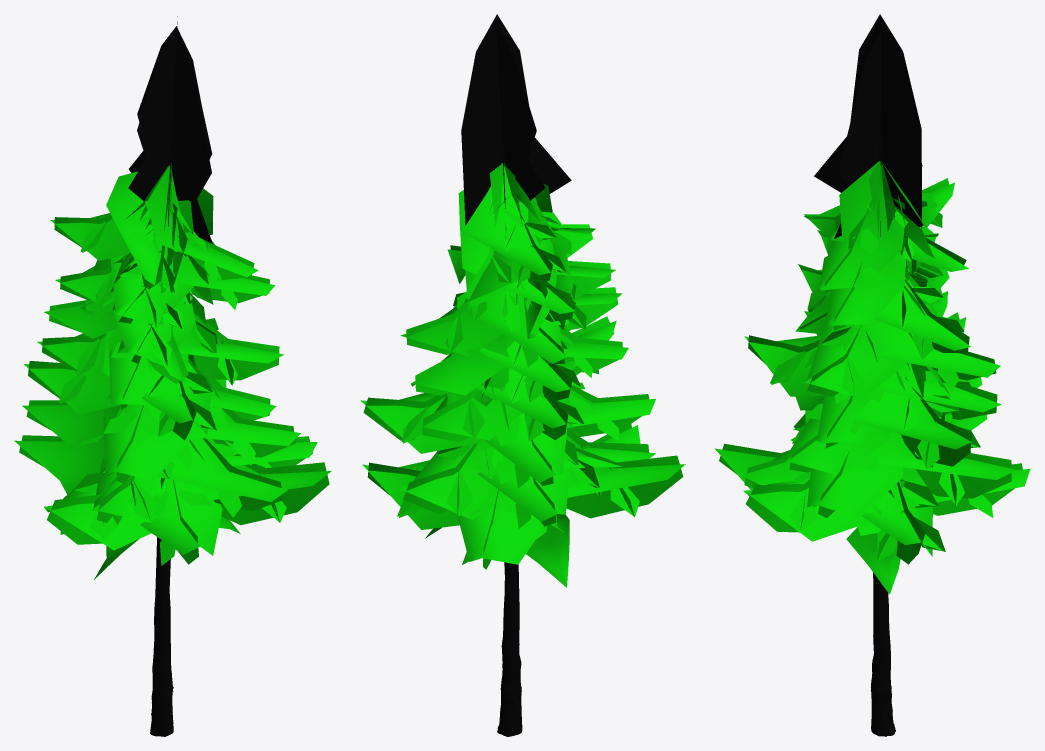
File: pine_004_3_0.FBX
3 views of the same model, side by side, from view 1: azimuth 30°, elevation 25°; view 2: azimuth 150°, elevation 25°; view 3: azimuth 270°, elevation 25° (orthographic).
Visible parts, largest first — view 1: pine_004_03_0_LOD0; view 2: pine_004_03_0_LOD0; view 3: pine_004_03_0_LOD0.
Part boxes in pixels (x1,y1,x2,y2): pine_004_03_0_LOD0: [14, 16, 331, 736]; pine_004_03_0_LOD0: [360, 14, 685, 736]; pine_004_03_0_LOD0: [714, 14, 1030, 736].
Size of what is drawn, in the model's own units: 172 by 424 by 168.
